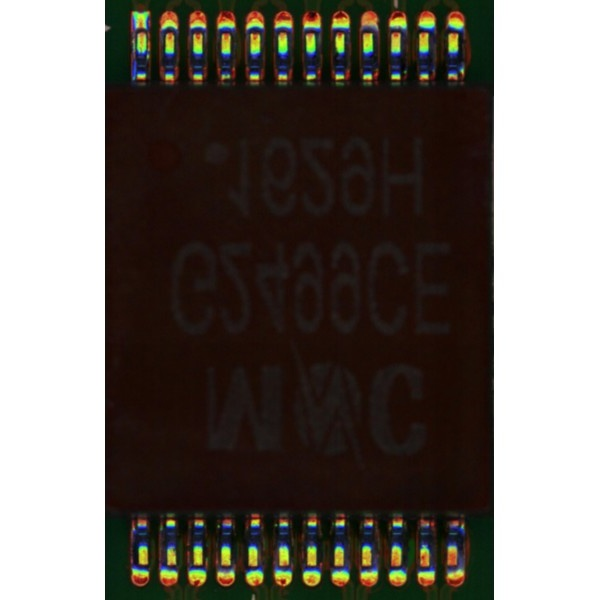Bad_podu: (137, 21, 145, 36)
Bad_qiaojiao: (131, 34, 136, 72), (146, 34, 151, 65)
